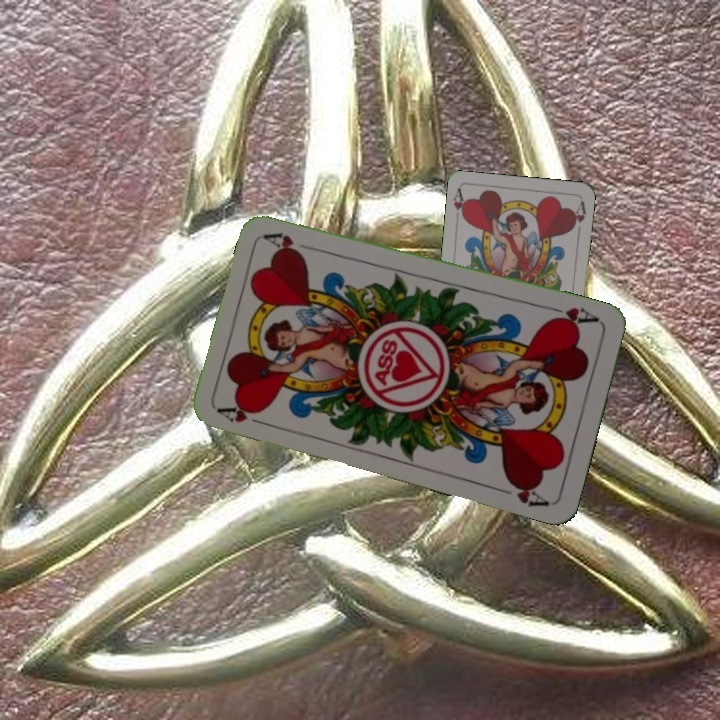HA: (214, 398, 273, 430), (545, 302, 602, 330), (449, 185, 469, 226)
